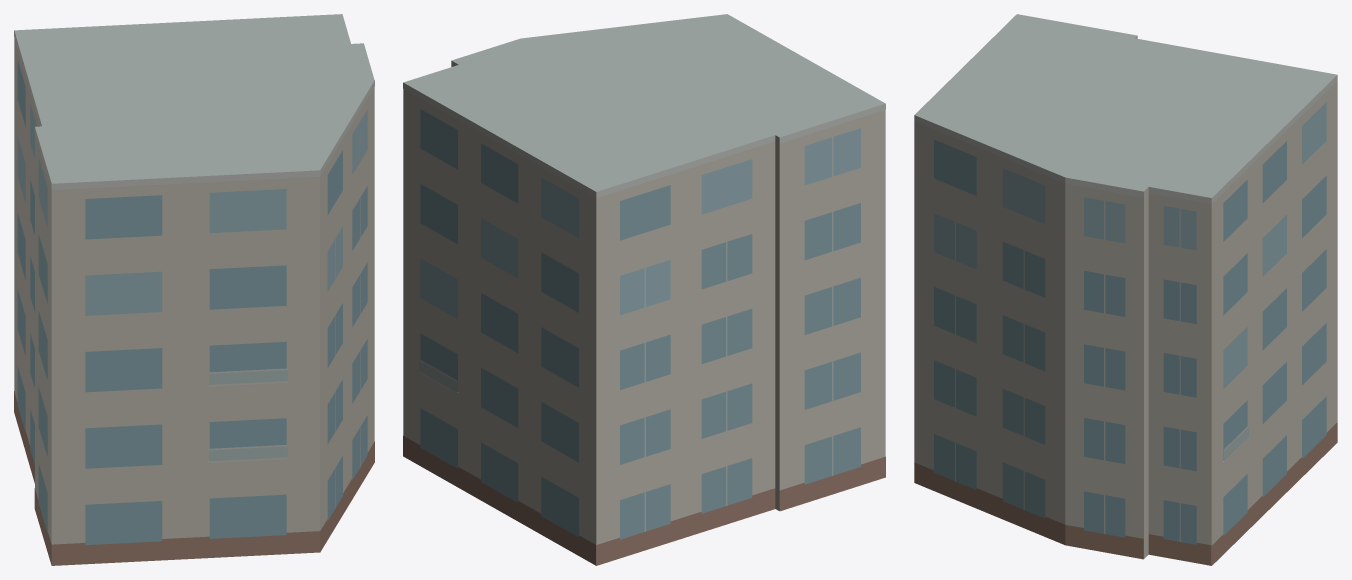
Rendered from survey-upis-32748938.glb.
The picture shows the model from 3 angles, left to right: view 1: azimuth 30°, elevation 25°; view 2: azimuth 150°, elevation 25°; view 3: azimuth 270°, elevation 25°; orthographic projection. The views are drawn at different scales.
Visible parts, largest first — view 1: survey-upis-32748938.tmp; view 2: survey-upis-32748938.tmp; view 3: survey-upis-32748938.tmp.
Part boxes in pixels (x1,y1,x2,y2): survey-upis-32748938.tmp: (14,14,374,565); survey-upis-32748938.tmp: (403,14,885,565); survey-upis-32748938.tmp: (914,14,1337,565).
Size of the model in its own units: 15.95 by 14.85 by 15.5.
